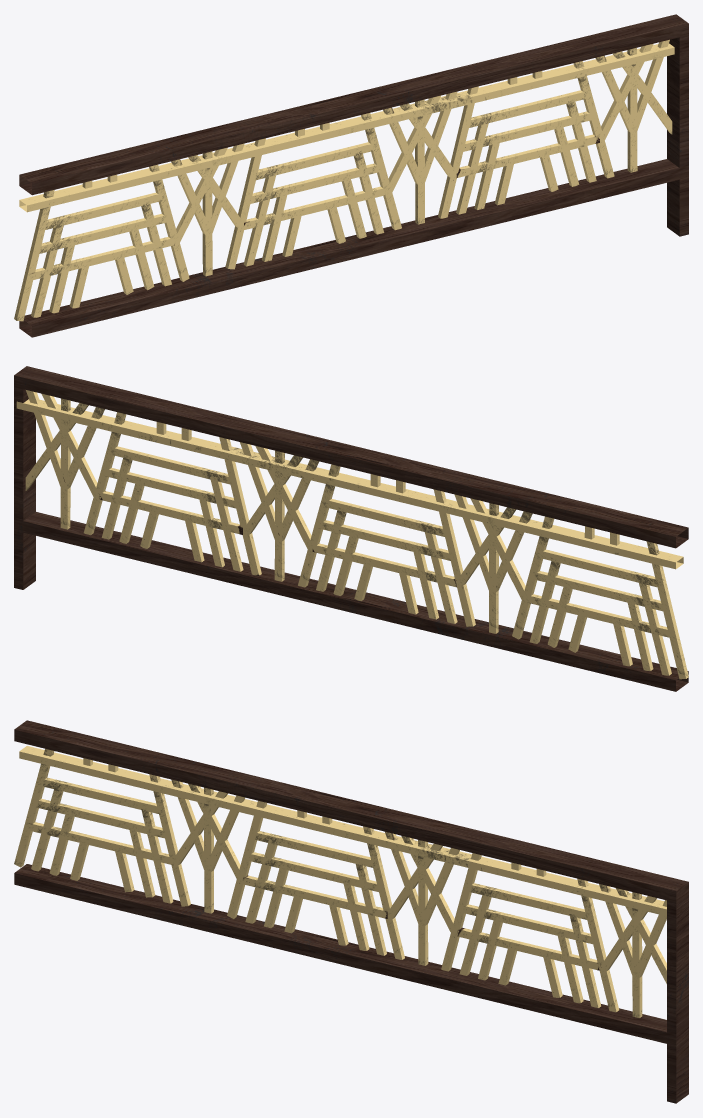
Rendered from Mod_Rambarde_Balcon_A_Low.fbx.
The picture shows the model from 3 angles, top to bottom: view 1: azimuth 30°, elevation 25°; view 2: azimuth 150°, elevation 25°; view 3: azimuth 330°, elevation 25°; orthographic projection.
Parts seen in each view (by area): view 1: Mod_Rambarde_Balcon_A_low; view 2: Mod_Rambarde_Balcon_A_low; view 3: Mod_Rambarde_Balcon_A_low.
Boxes of the visible parts, x1,y1,x2,y2 form: Mod_Rambarde_Balcon_A_low: (14,14,688,337); Mod_Rambarde_Balcon_A_low: (14,366,688,691); Mod_Rambarde_Balcon_A_low: (14,720,688,1103).
Size of the model in its own units: 304 by 92.02 by 10.05.
Materials: 1 (1 with a texture image).
